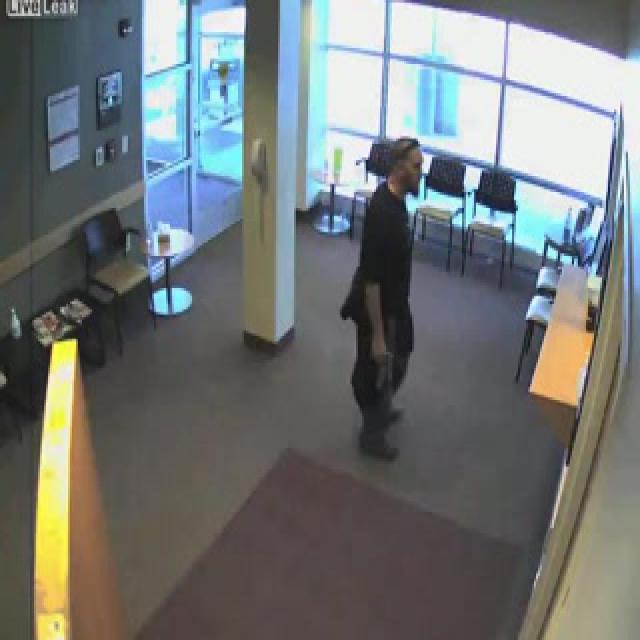weapon: (376, 352, 396, 393)
